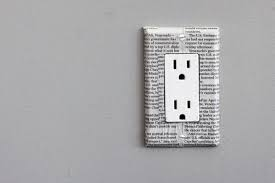outlet: (172, 97, 193, 122), (171, 57, 192, 81)
